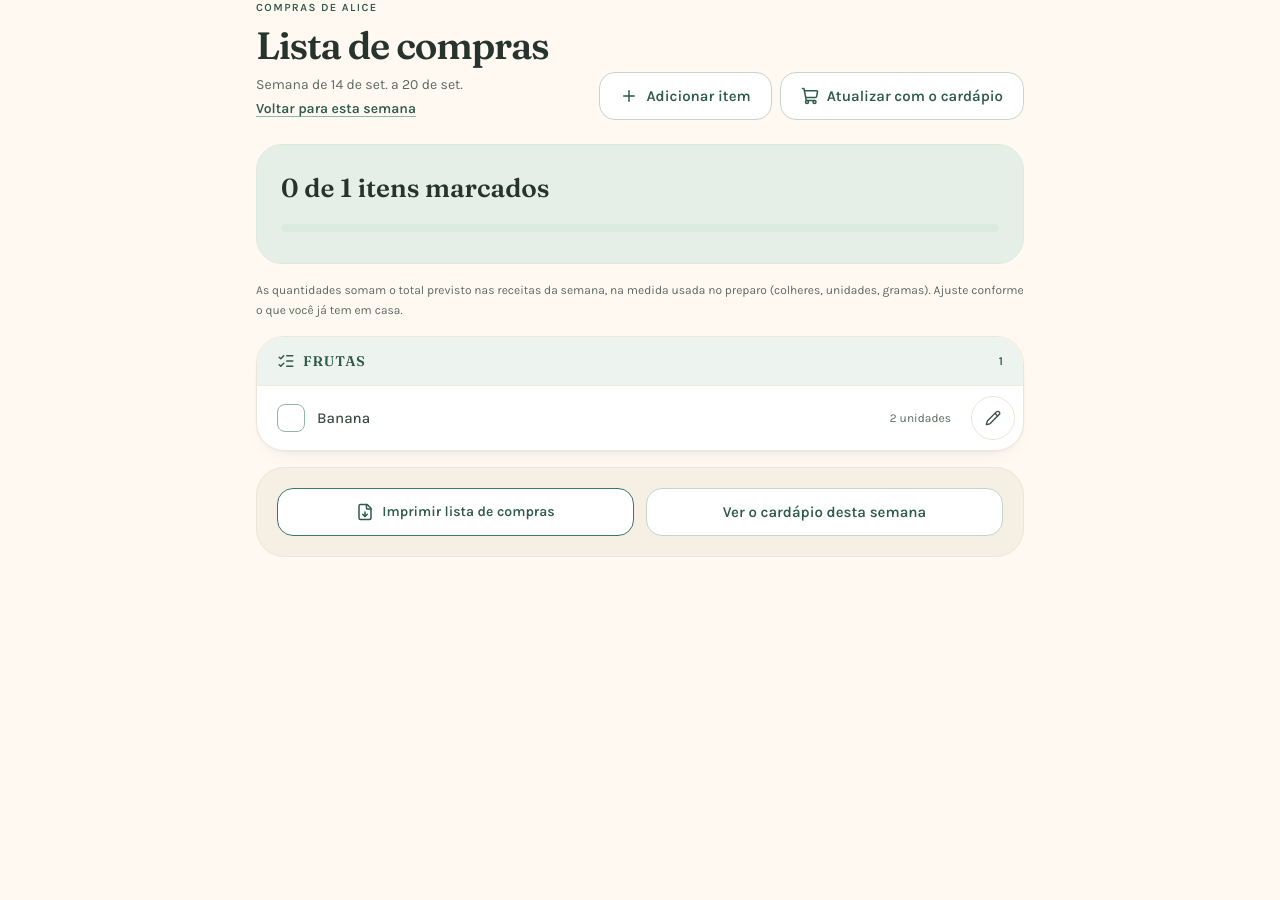
Test case: cancelar a confirmação não gera a lista
The image size is (1280, 900).
Click the button "Atualizar com o cardápio" at (902, 96), box [780,72,1024,120]
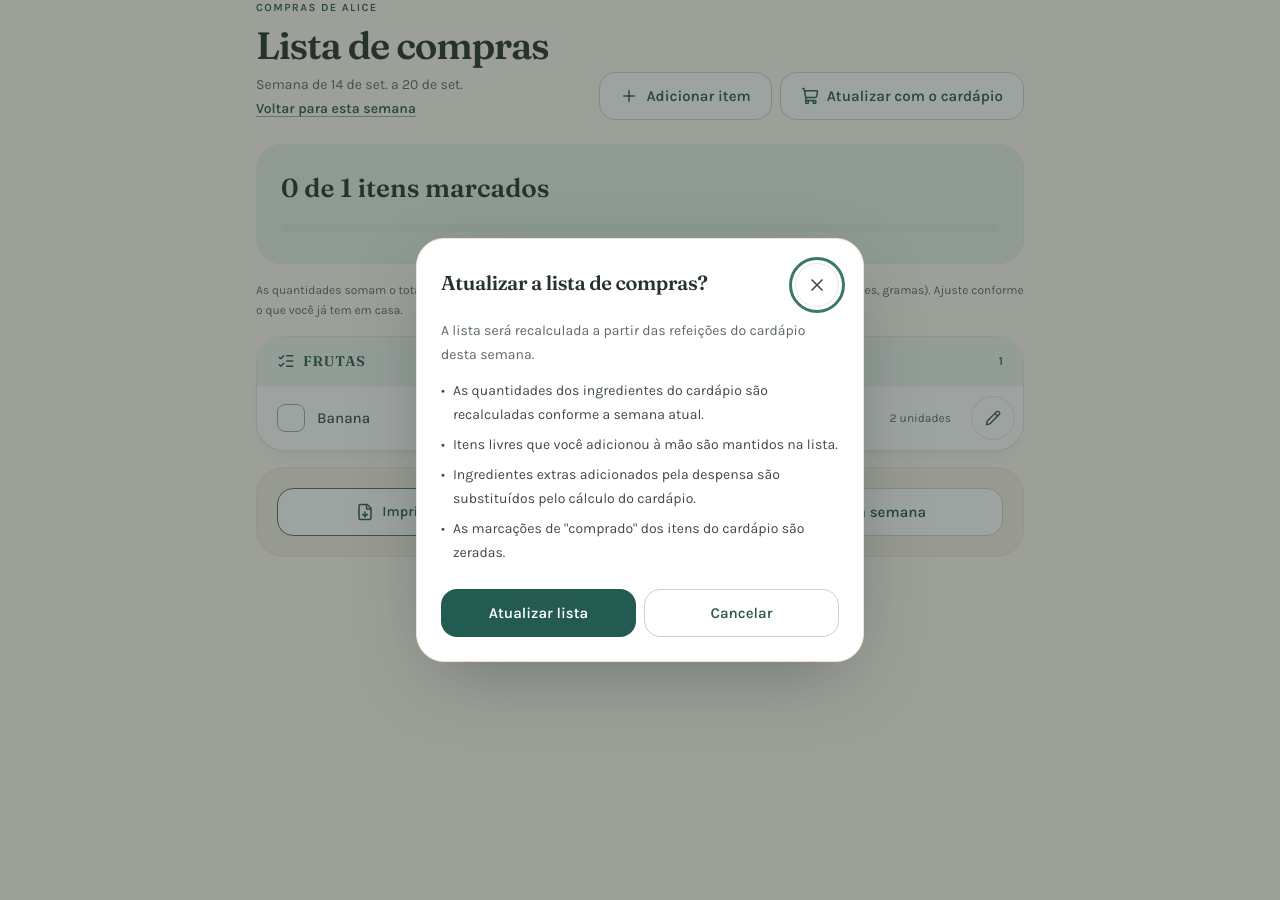
Click the button "Cancelar" at (742, 613), box [644,589,839,637]
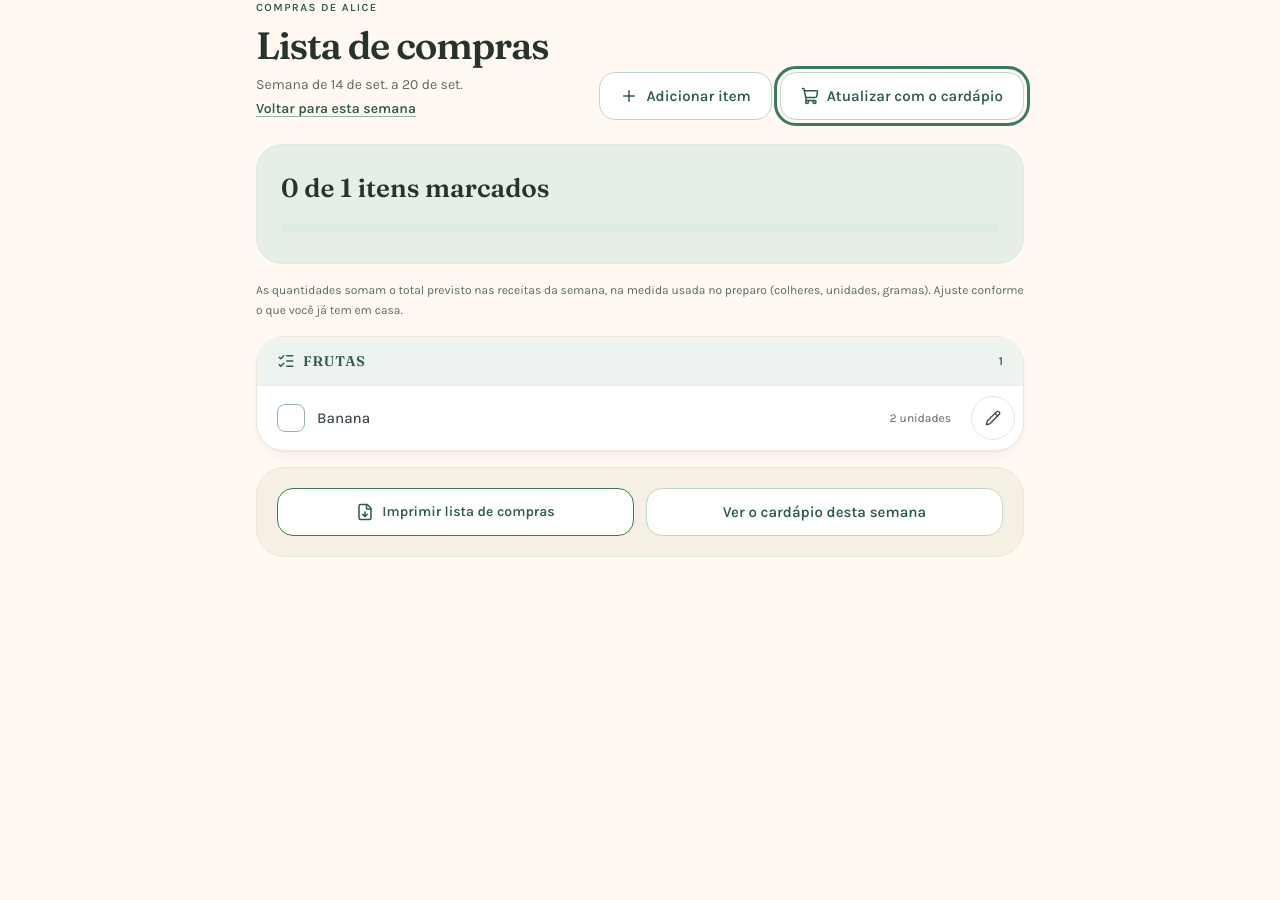
Now the dialog is gone
